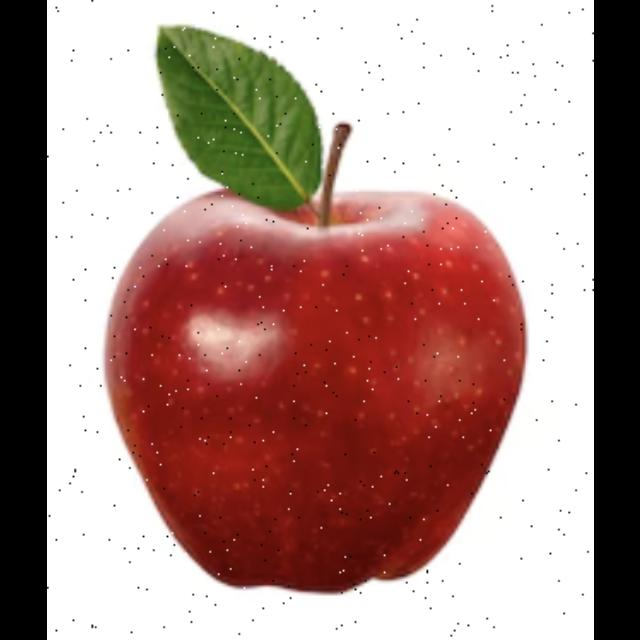Apel Segar: (100, 174, 534, 606)
